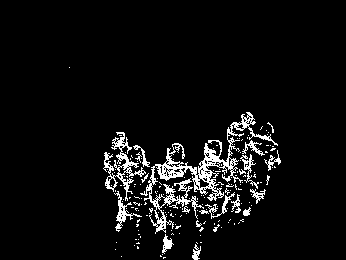person: (151, 140, 203, 260), (193, 138, 238, 231), (126, 145, 161, 253), (102, 127, 133, 238), (244, 118, 282, 201), (226, 108, 258, 196)
